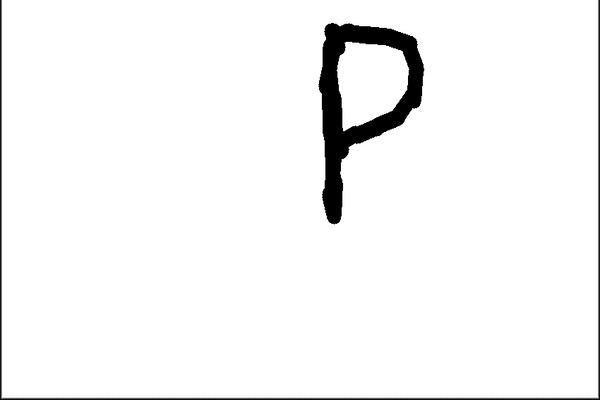P: (309, 14, 435, 231)
